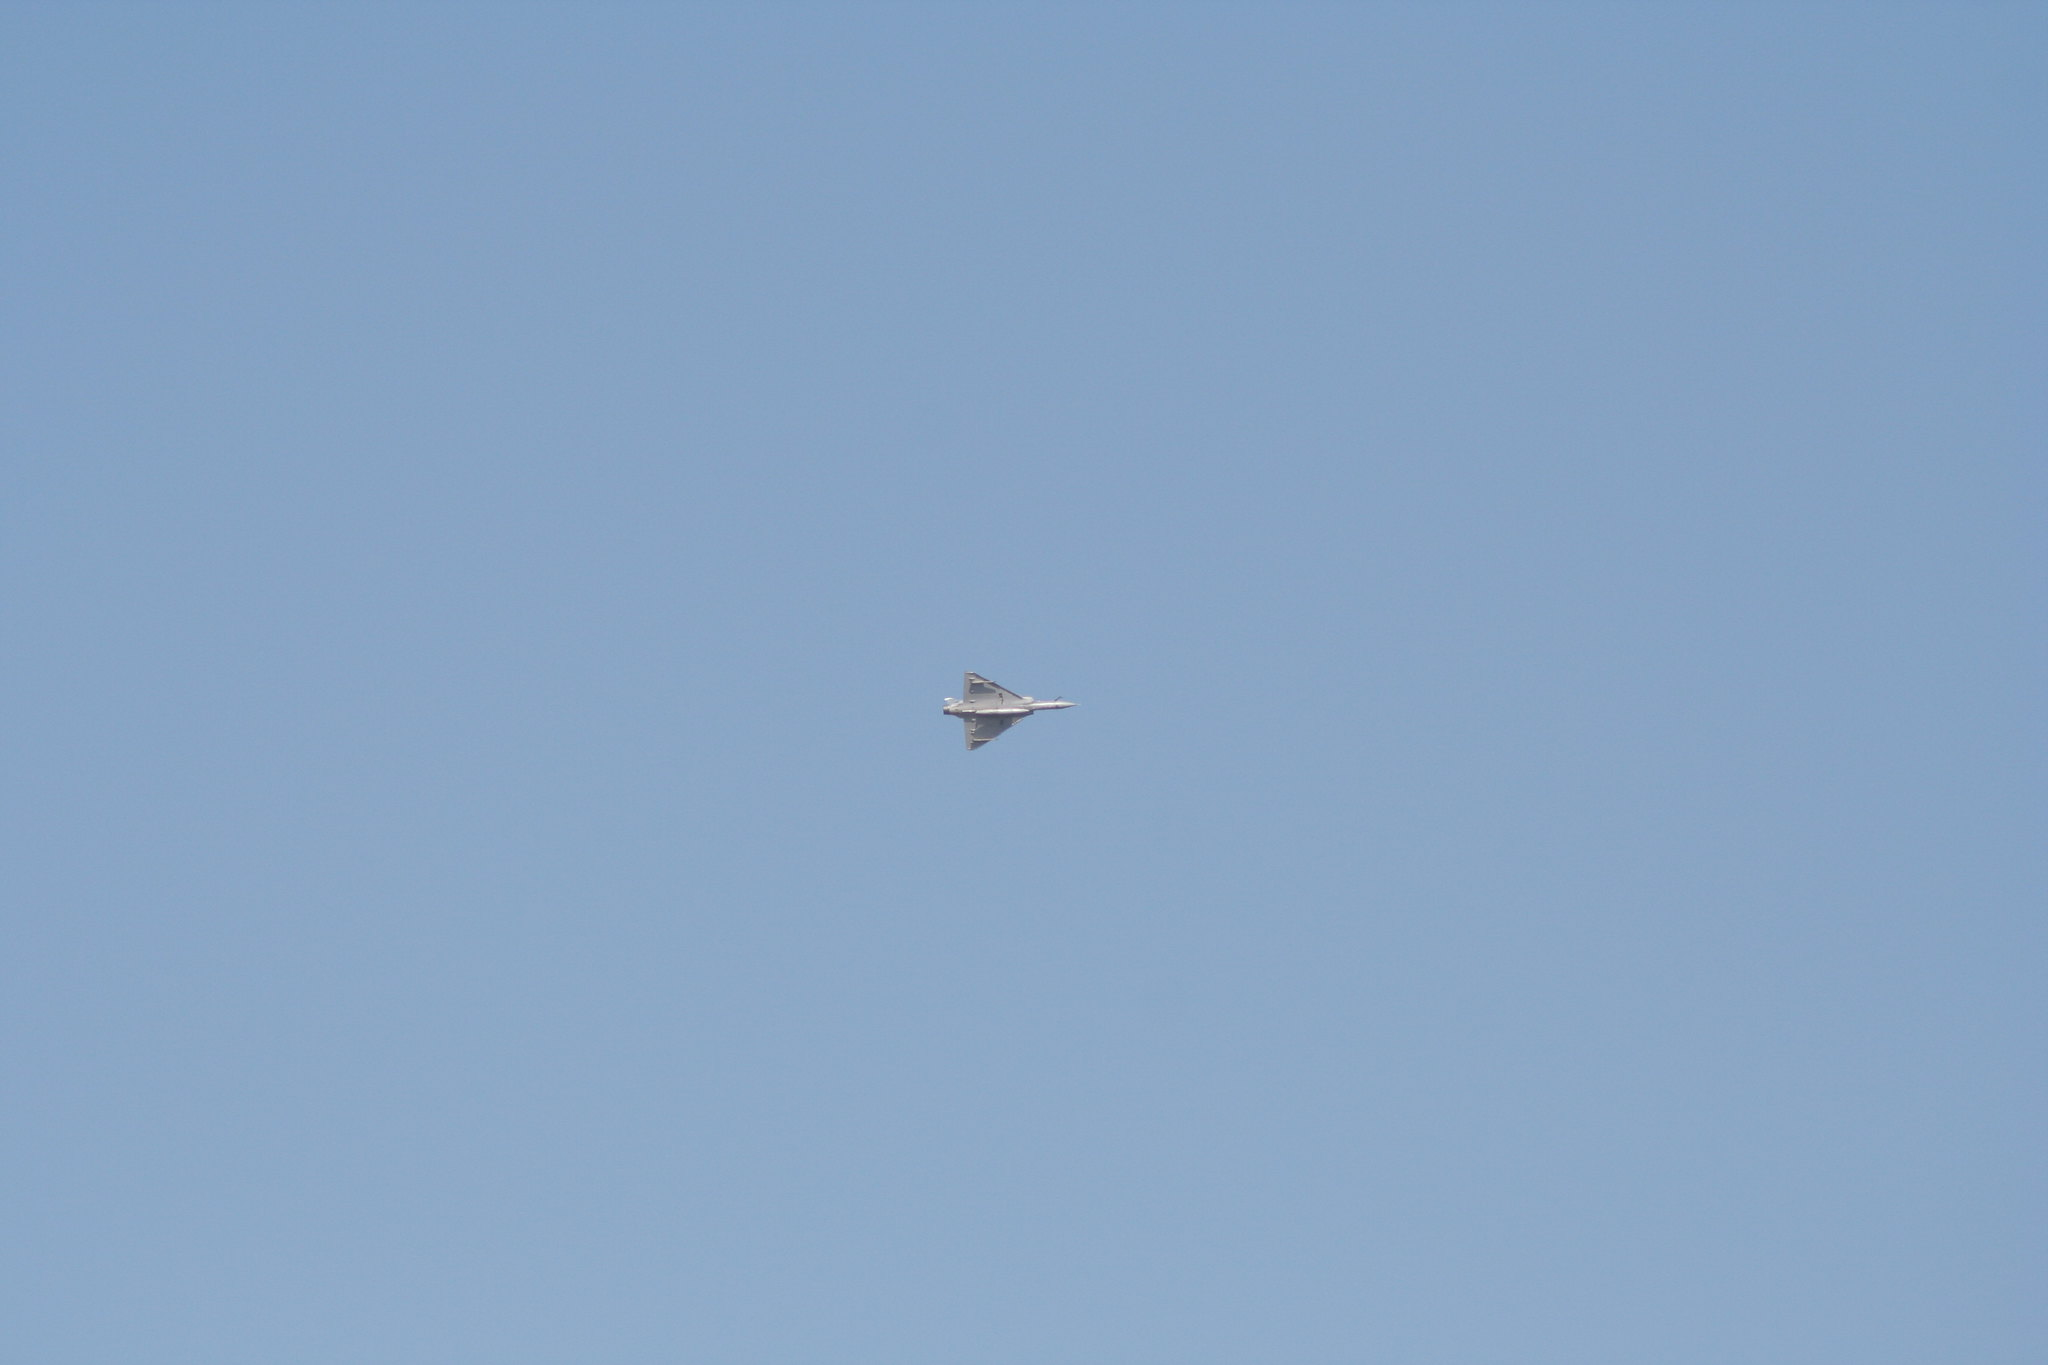Mirage2000: (943, 670, 1083, 751)
